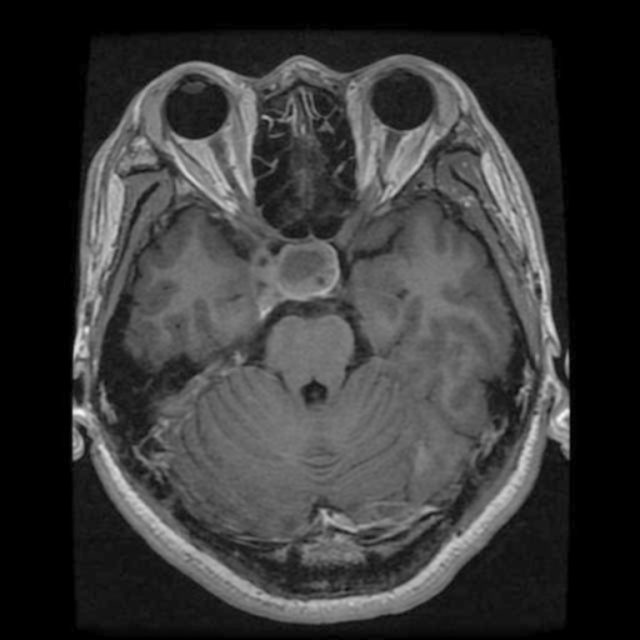no tumor: (272, 238, 342, 298)
